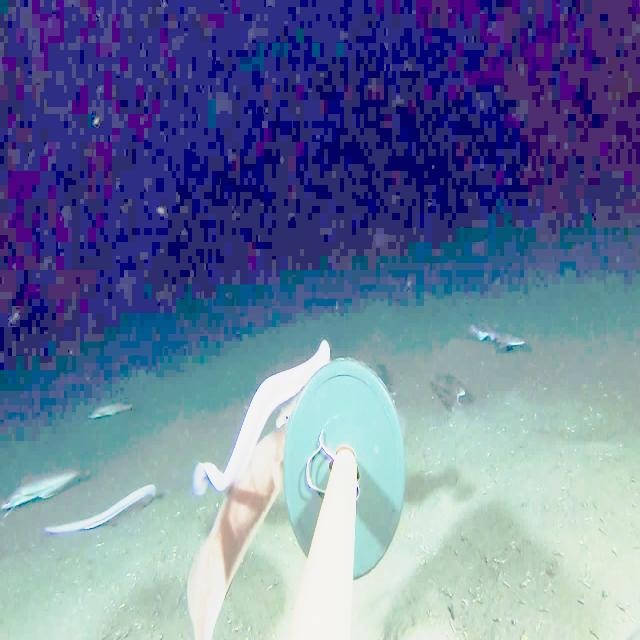eel: (183, 328, 334, 519), (42, 470, 164, 551)
fish: (172, 423, 294, 639), (0, 450, 80, 522), (72, 384, 139, 432), (463, 314, 530, 356), (424, 368, 474, 410), (271, 389, 305, 438)
pole: (285, 387, 398, 574)
